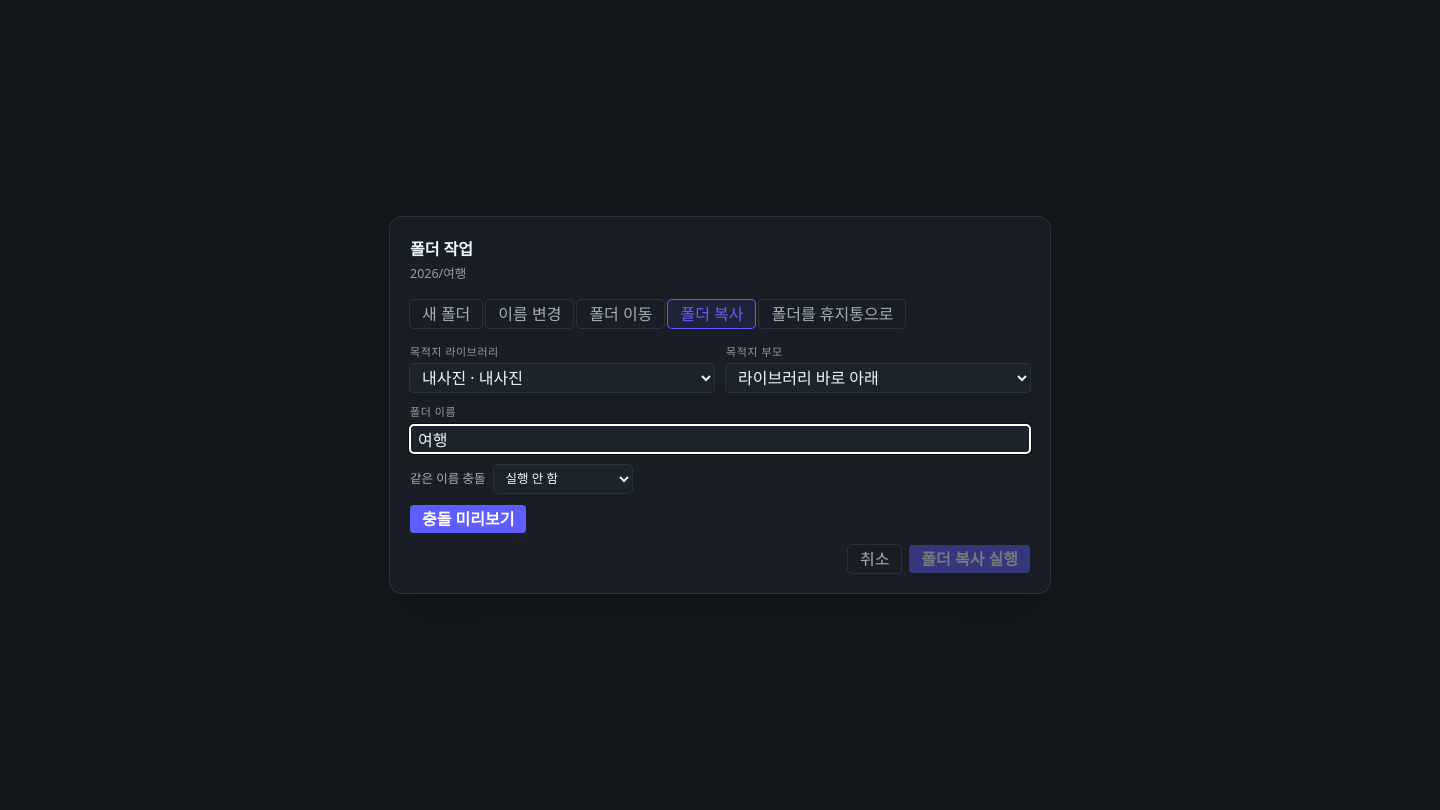
Scenario: FolderOperationDialog › 실행 전에 미리보기를 요구하고 Drive 및 충돌 경고를 보여 준다
The width and height of the screenshot is (1440, 810).
Expected: the button "폴더 복사 실행" is disabled, [909, 545, 1030, 573]
Select "번호를 붙여 새 이름" in the dropdown labelled "같은 이름 충돌" at {"x": 562, "y": 479}, box [494, 465, 632, 493]
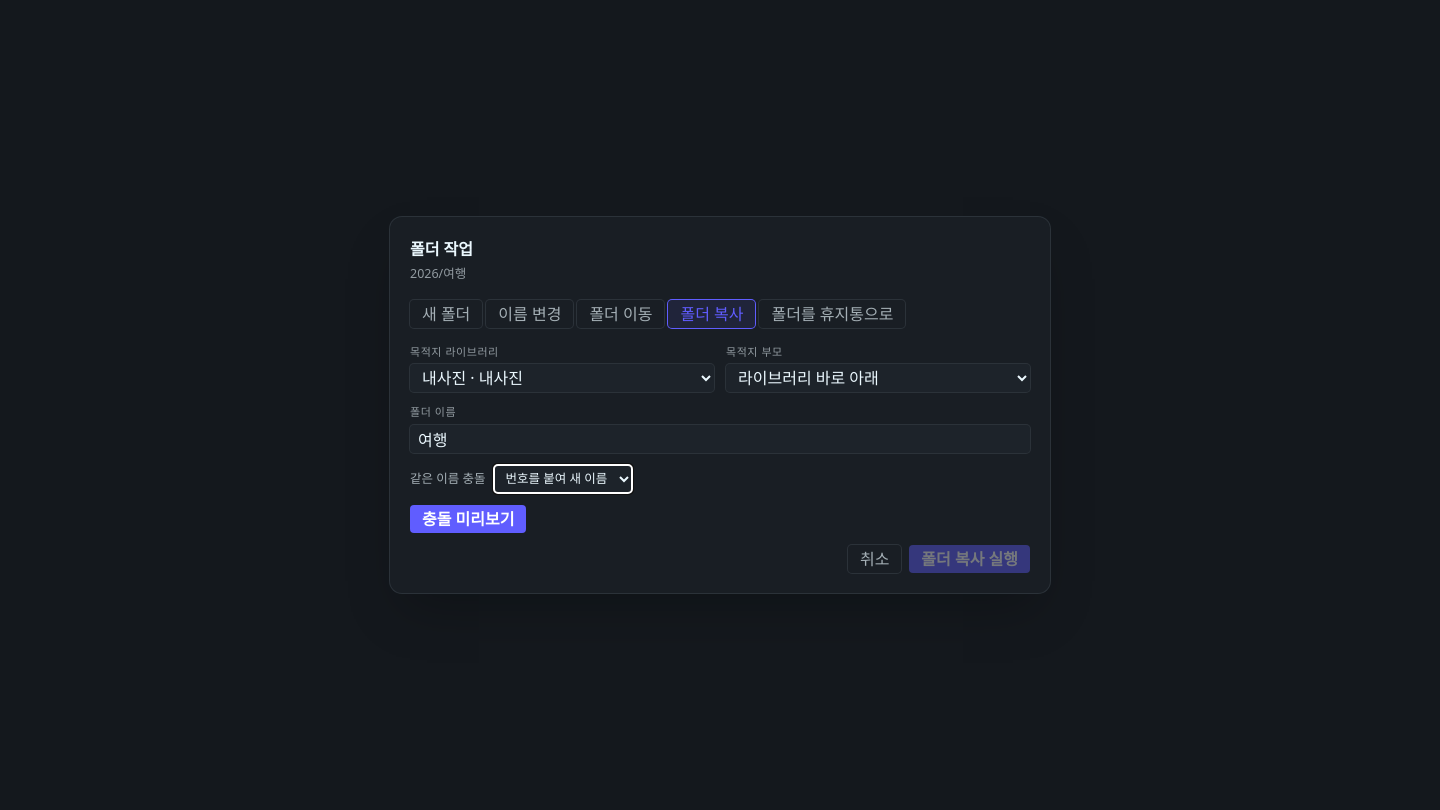
Click the button "충돌 미리보기" at {"x": 468, "y": 519}, box [410, 505, 526, 533]
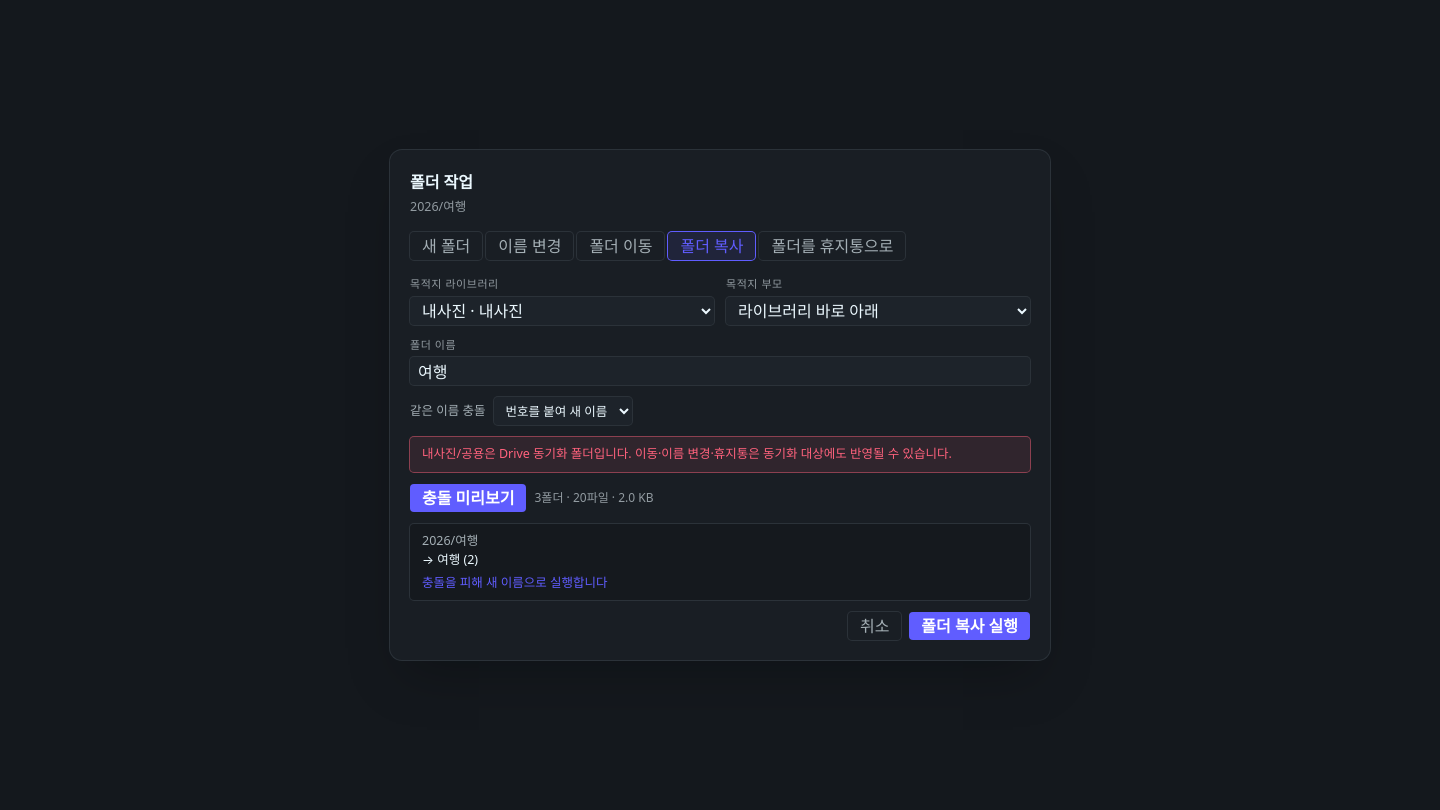
Now the text "충돌을 피해 새 이름으로 실행합니다" is shown, box [422, 574, 608, 591]
Now the text "내사진/공용은 Drive 동기화 폴더입니다. 이동·이름 변경·휴지통은 동기화 대상에도 반영될 수 있습니다." is shown, box [410, 437, 1030, 472]
Now the button "폴더 복사 실행" is enabled, box [909, 612, 1030, 640]
